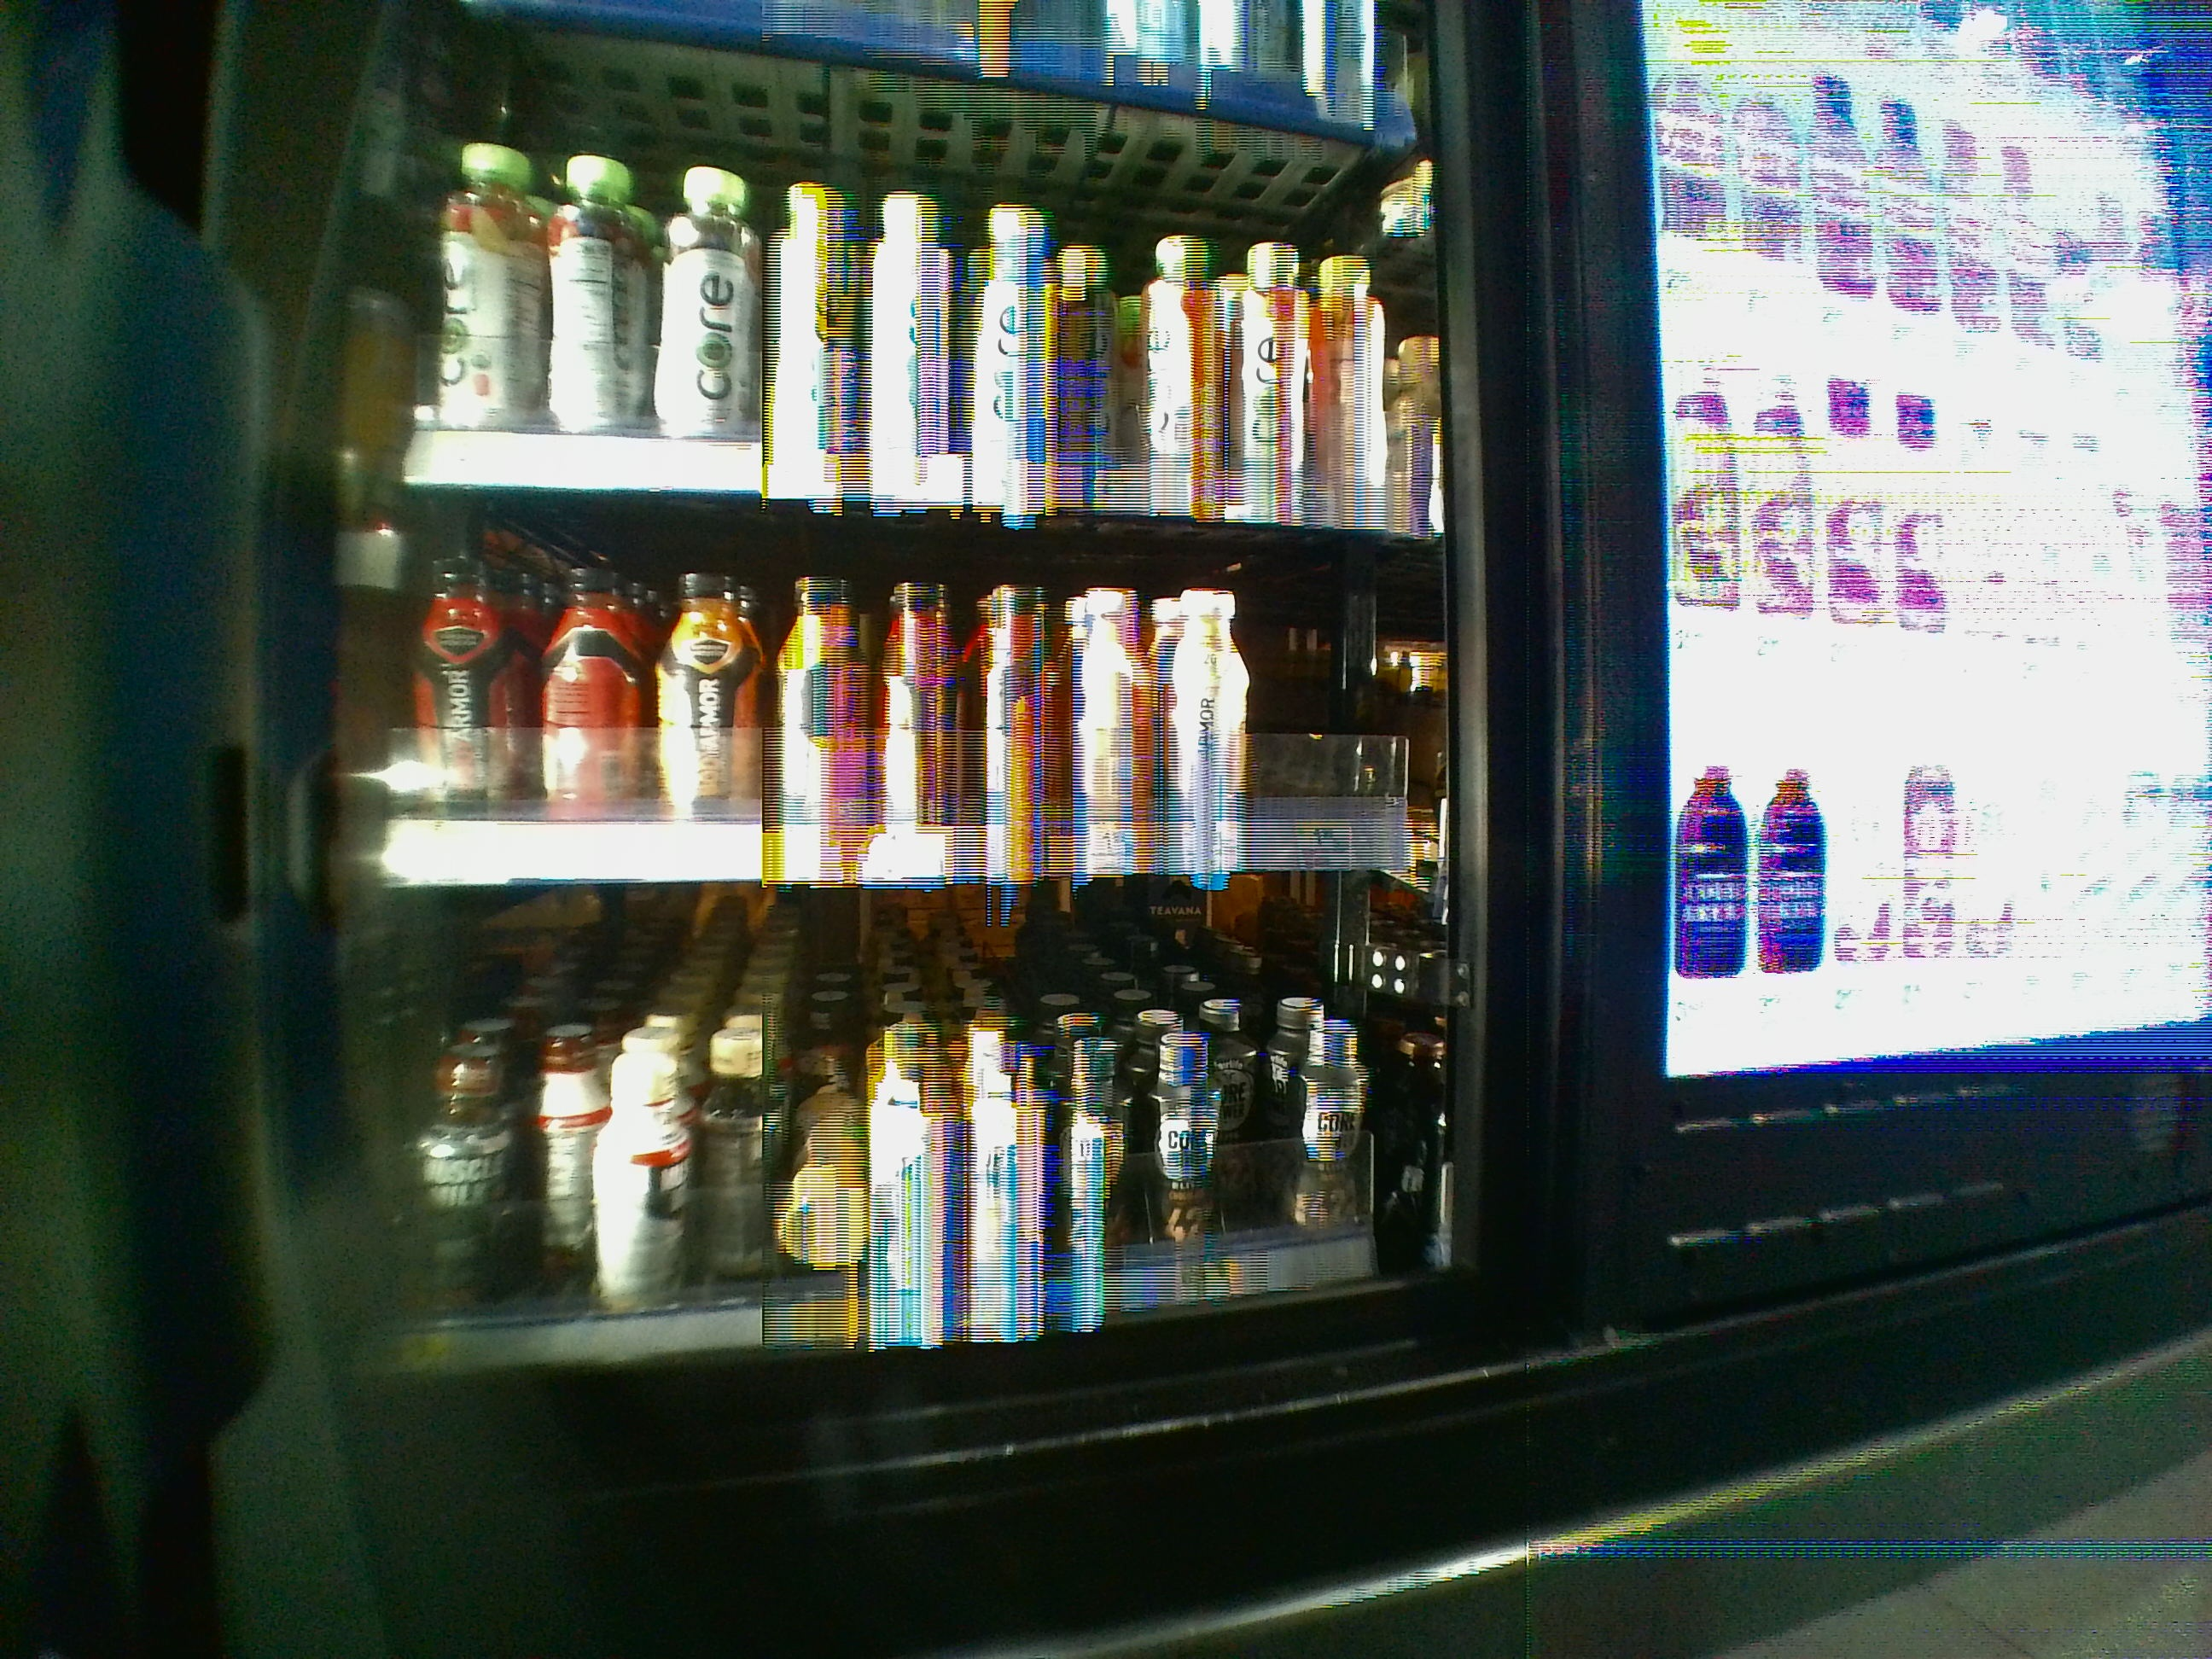shelf: (320, 875, 1472, 1316), (322, 497, 1468, 878)
